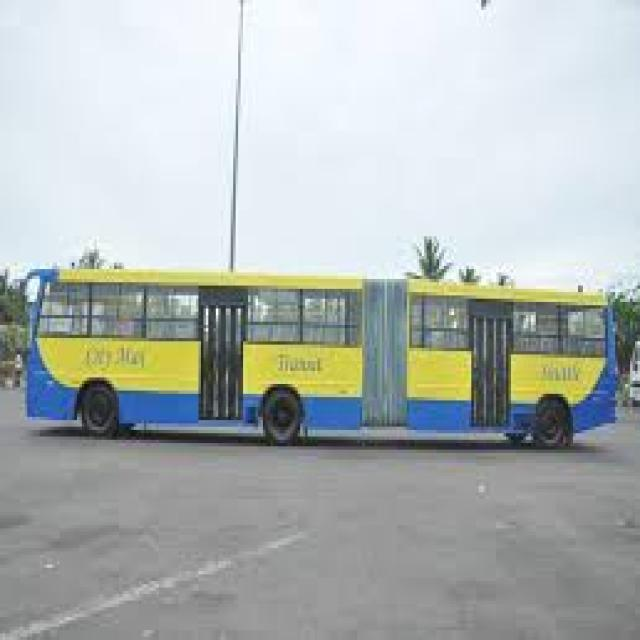bus: (7, 181, 633, 496)
